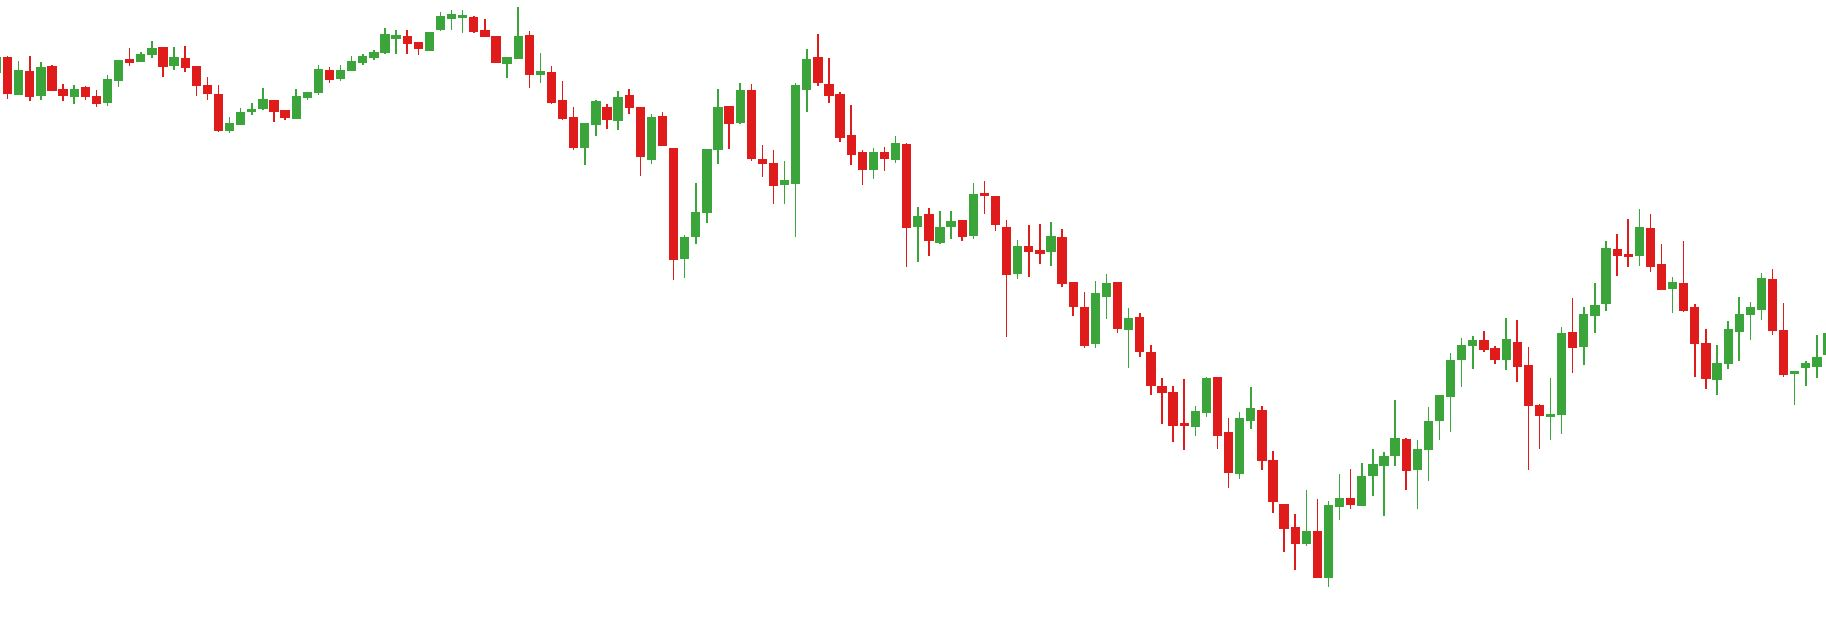buy: (1578, 269, 1724, 400), (1434, 366, 1544, 477)
sell: (712, 33, 834, 151), (912, 177, 1002, 248)
